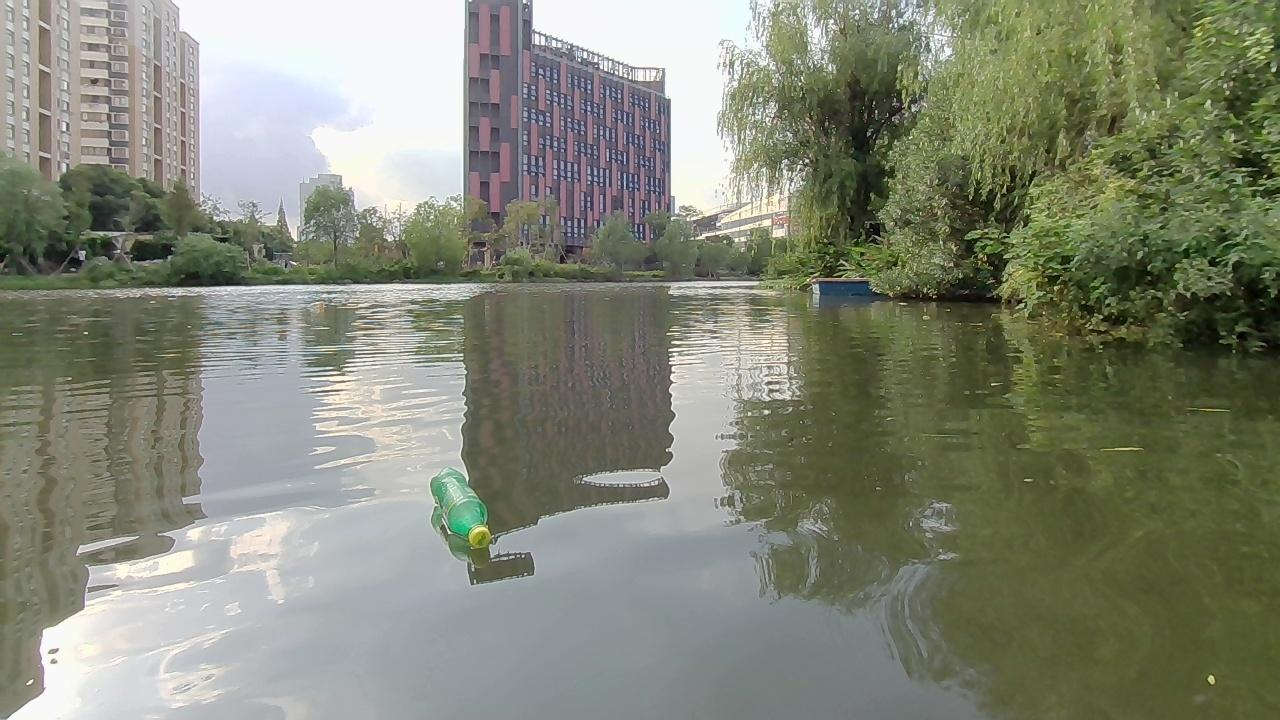bottle: (427, 467, 492, 547), (305, 300, 324, 316)
